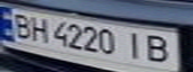0: (97, 26, 118, 56)
2: (81, 24, 100, 54), (66, 21, 84, 52)
4: (48, 19, 72, 48)
B: (139, 32, 178, 65), (6, 10, 36, 39)
H: (27, 15, 51, 43)
I: (121, 29, 148, 61)
